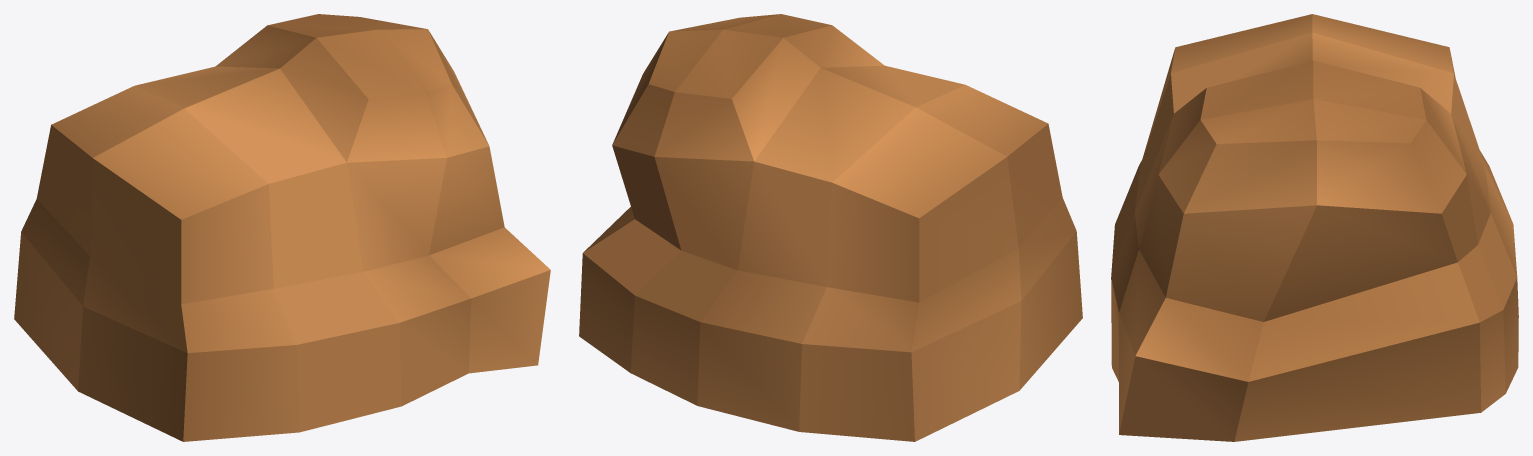
Rendered from Rock_Desert10.fbx.
3 views of the same model, side by side, from view 1: azimuth 30°, elevation 25°; view 2: azimuth 150°, elevation 25°; view 3: azimuth 270°, elevation 25° (orthographic). The views are drawn at different scales.
Visible parts, largest first — view 1: Rock_Desert08; view 2: Rock_Desert08; view 3: Rock_Desert08.
Part boxes in pixels (bbox=[...]): Rock_Desert08: bbox=[14, 14, 550, 441]; Rock_Desert08: bbox=[579, 14, 1082, 441]; Rock_Desert08: bbox=[1111, 14, 1518, 441].
Size of the model in its own units: 44.99 by 32.54 by 37.28.
